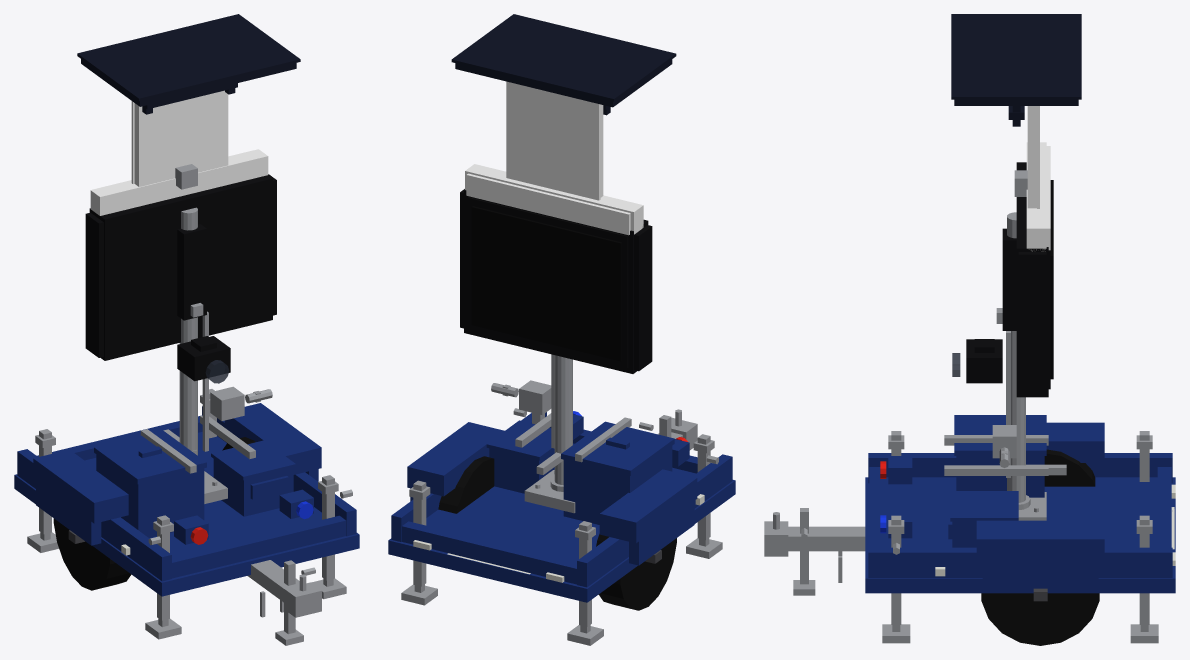
Rendered from radar_speed_trailer.obj.
3 renders of one model, left to right at view 1: azimuth 30°, elevation 25°; view 2: azimuth 150°, elevation 25°; view 3: azimuth 270°, elevation 25°, orthographic. The views are drawn at different scales.
Parts seen in each view (by area): view 1: led_cabinet, solar_frame, sl_plate, chassis_main, battery_housing, fender_L_top, cross_front, ys_bar, deck_surface, fender_R_top, battery_lid, side_rail_L (+28 smaller); view 2: led_screen, solar_frame, sl_frame, deck_surface, chassis_main, fender_L_top, ys_face, cross_rear, battery_housing, led_bezel, fender_R_top, battery_lid (+23 smaller); view 3: solar_frame, deck_surface, side_rail_R, fender_R_top, tire_R, chassis_main, led_side_R, fender_R_side, side_rail_L, fender_L_top, electronics_lid, battery_lid (+21 smaller).
Boxes of the visible parts, x1,y1,x2,y2 form: led_cabinet: (89,175,272,360); solar_frame: (77,14,300,101); sl_plate: (134,90,228,186); chassis_main: (14,474,359,596); battery_housing: (96,454,204,537); fender_L_top: (33,449,128,523); cross_front: (157,515,346,580); ys_bar: (90,149,268,215); deck_surface: (85,432,321,556); fender_R_top: (224,403,321,474); battery_lid: (94,430,206,484); side_rail_L: (17,449,171,581); led_screen: (471,206,622,361); solar_frame: (451,14,676,101); sl_frame: (506,81,600,200); deck_surface: (426,443,695,562); chassis_main: (388,480,735,602); fender_L_top: (599,469,697,543); ys_face: (466,173,630,235); cross_rear: (402,521,576,584); battery_housing: (563,446,672,524); led_bezel: (468,197,628,368); fender_R_top: (407,422,504,496); battery_lid: (561,421,674,475); solar_frame: (951,14,1081,99); deck_surface: (883,477,1157,547); side_rail_R: (868,547,1172,577); fender_R_top: (976,520,1104,560); tire_R: (981,593,1099,645); chassis_main: (865,477,1175,593); led_side_R: (1018,252,1046,395); fender_R_side: (982,550,1098,586); side_rail_L: (868,453,1172,483); fender_L_top: (1046,422,1104,462); electronics_lid: (950,491,1018,521); battery_lid: (954,415,1046,455).
Bounding box in the file's own units: 1.38 × 2.99 × 2.05.
